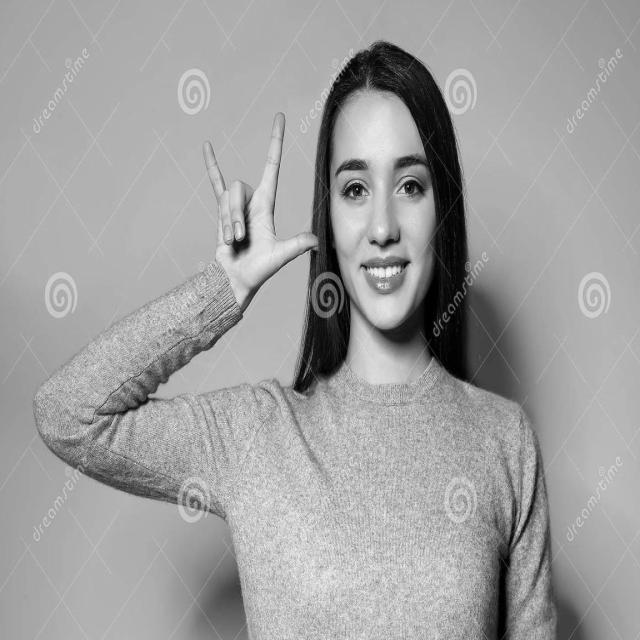i love you: (199, 107, 322, 296)
